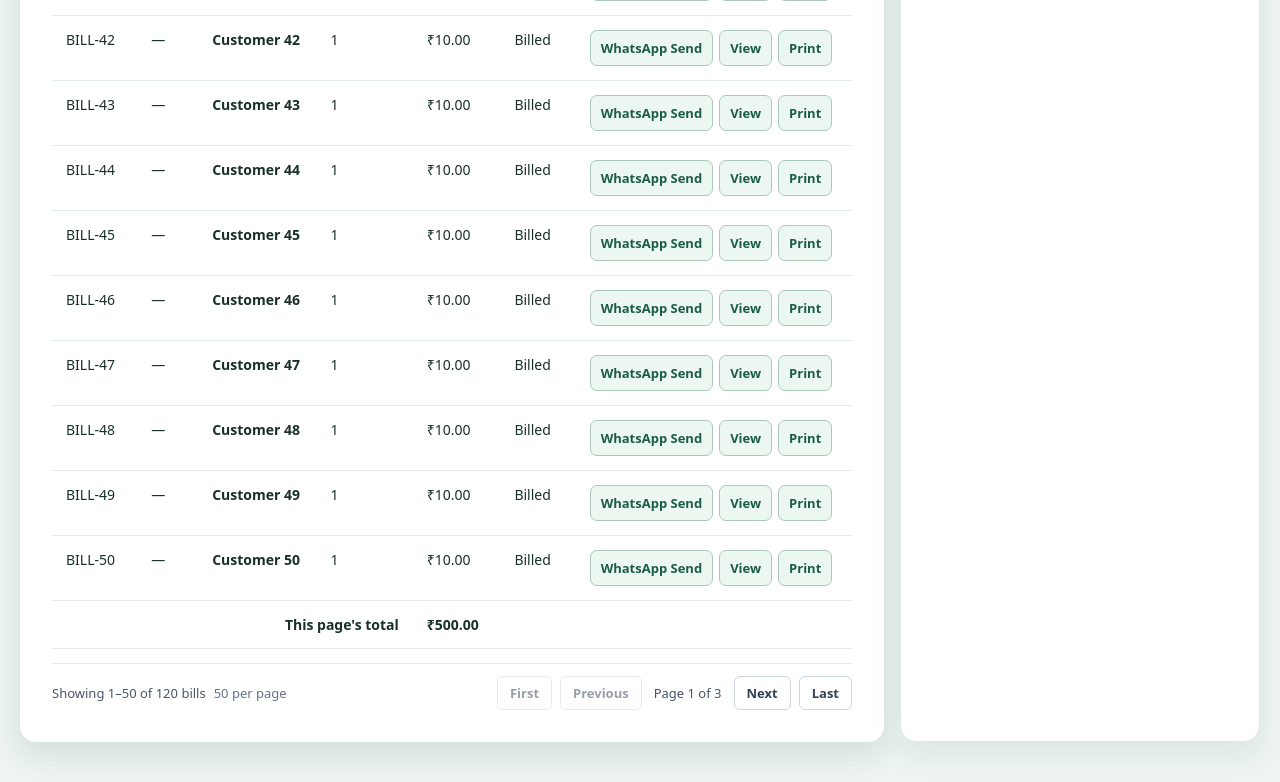
Test: loads 50 bills per page and navigates to the next and last server pages
(page scrolled)
Expected: the text "Customer 50" is shown, [198, 536, 316, 600]
Expected: the text "Showing 1–50 of 120 bills" is shown, [52, 684, 206, 702]
Click the button "Next": {"x": 762, "y": 693} [734, 676, 791, 710]
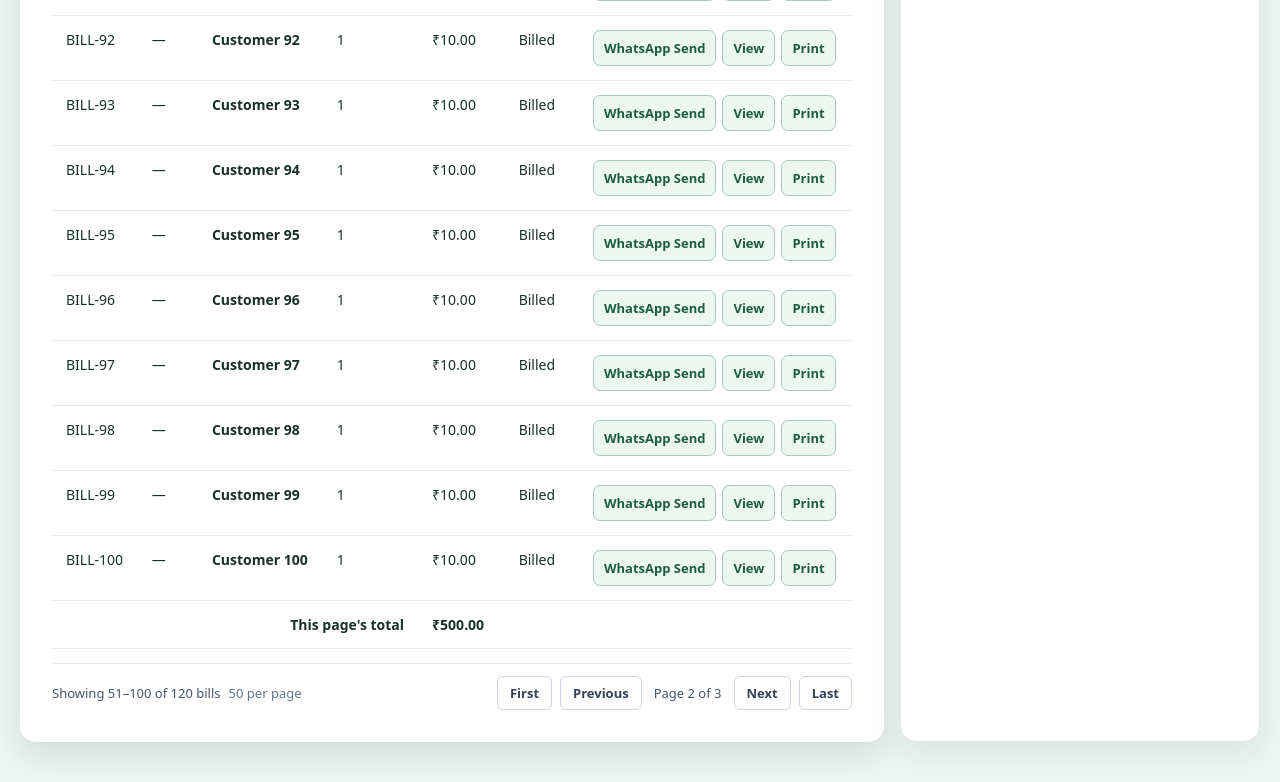
Click the button "Last": {"x": 825, "y": 693} [799, 676, 852, 710]
(page scrolled)
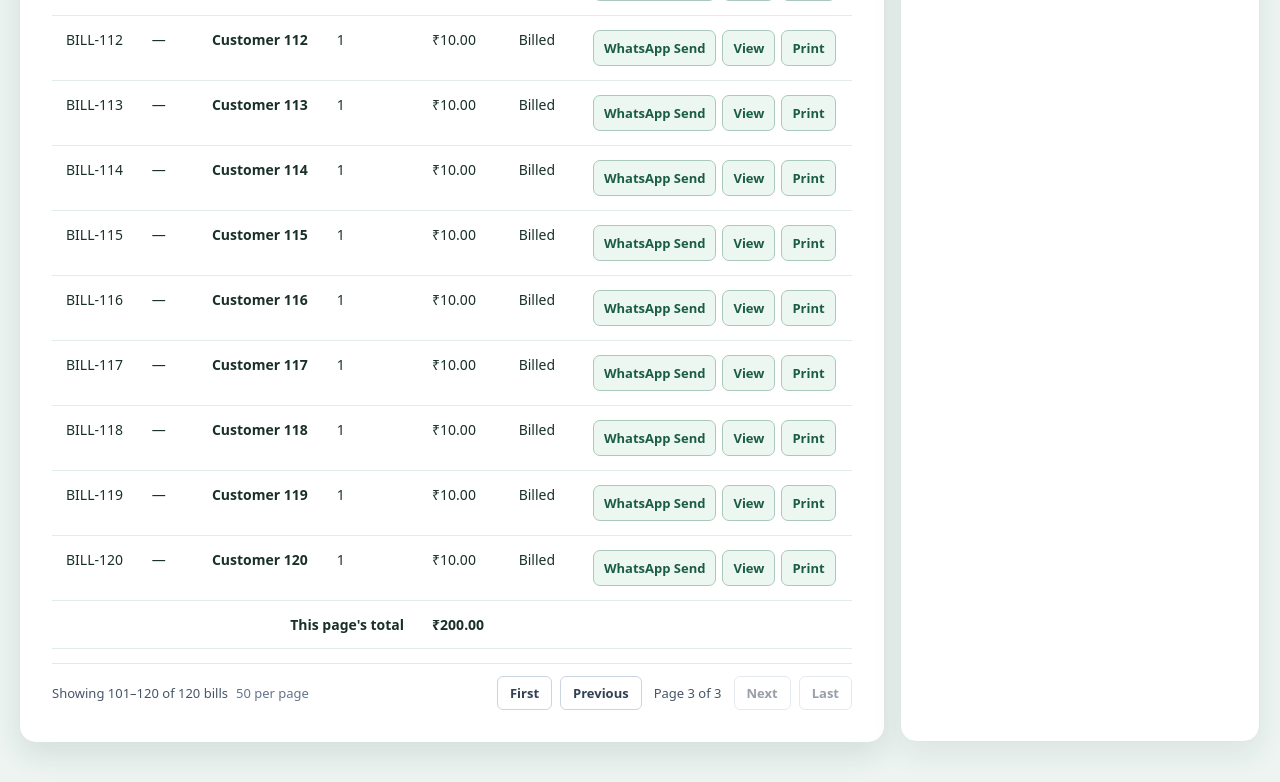
Result: the text "₹200.00" is shown at [418, 600, 505, 648]
Result: the button "Next" is disabled at [734, 676, 791, 710]
Result: the button "Last" is disabled at [799, 676, 852, 710]
